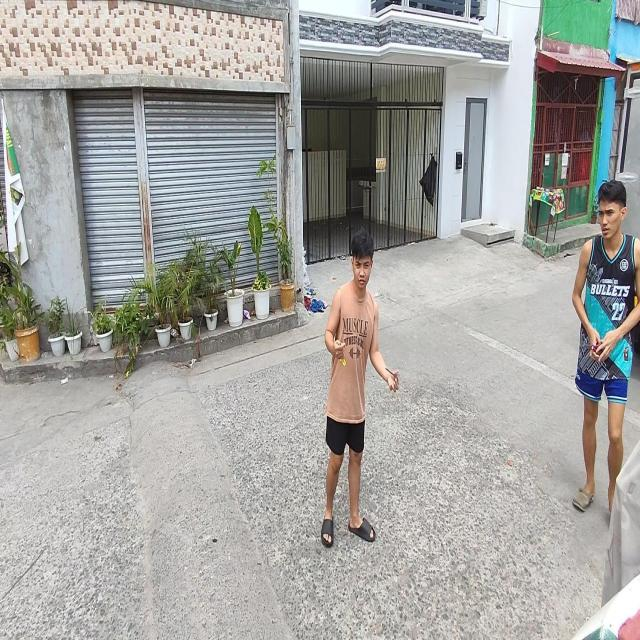scissor: (585, 342, 602, 354), (340, 343, 346, 367)
